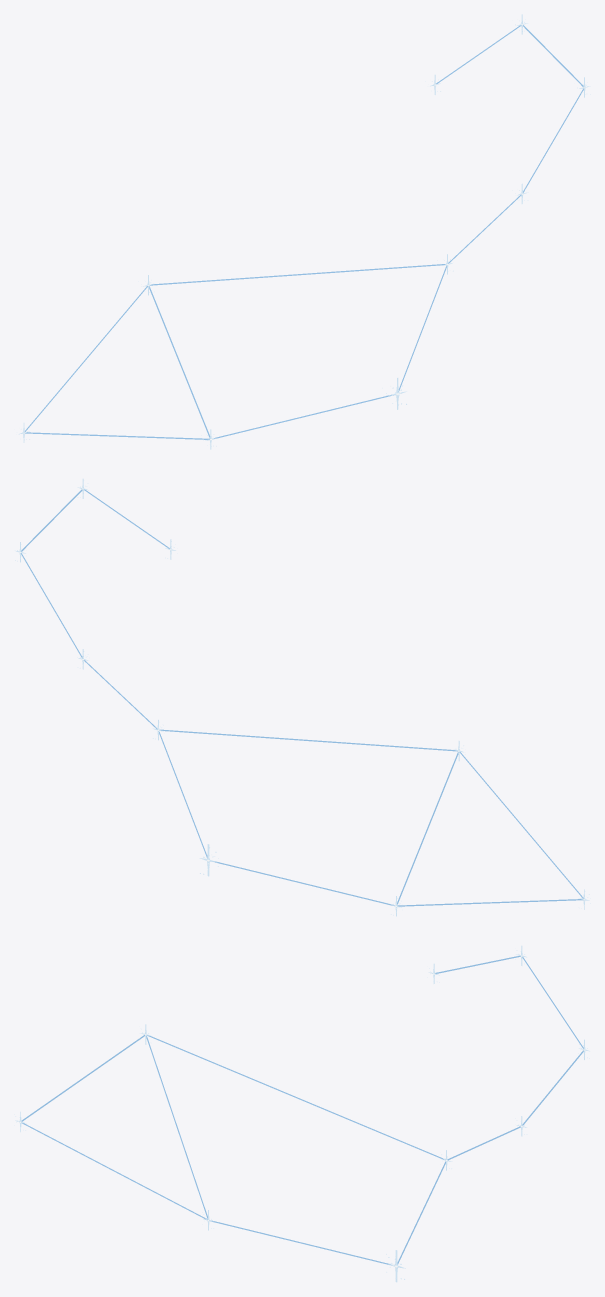
Rendered from Leo.glb.
The picture shows the model from 3 angles, top to bottom: view 1: azimuth 30°, elevation 25°; view 2: azimuth 150°, elevation 25°; view 3: azimuth 330°, elevation 25°; orthographic projection.
Parts seen in each view (by area): view 1: Leo; view 2: Leo; view 3: Leo.
Part boxes in pixels (box(x1,y1,x2,y2)): Leo: box(18, 14, 590, 449); Leo: box(15, 478, 590, 916); Leo: box(14, 945, 589, 1282).
Size of the model in its own units: 0.4619 by 0.28 by 0.015.
